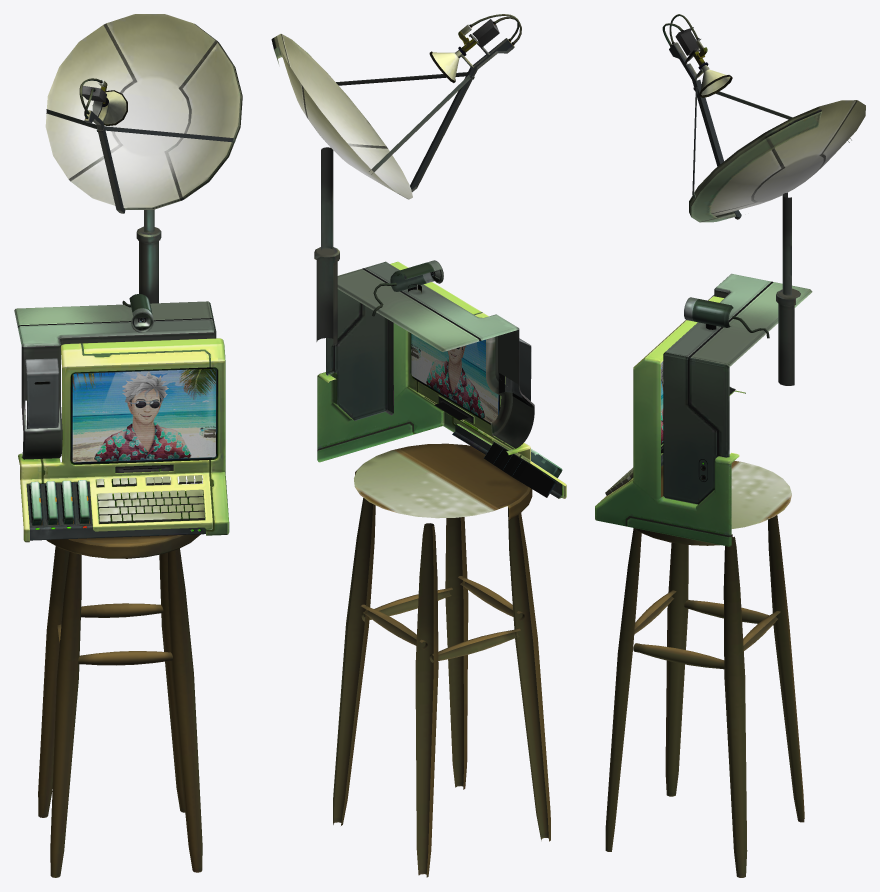
The model's file is AprilFools_Computer.fbx.
The picture shows the model from 3 angles, left to right: view 1: azimuth 30°, elevation 25°; view 2: azimuth 150°, elevation 25°; view 3: azimuth 270°, elevation 25°; orthographic projection. The views are drawn at different scales.
Visible parts, largest first — view 1: AprilFools_Computer; view 2: AprilFools_Computer; view 3: AprilFools_Computer.
Boxes of the visible parts, <box> form: AprilFools_Computer: <box>14,14,242,877</box>; AprilFools_Computer: <box>271,14,566,877</box>; AprilFools_Computer: <box>595,14,865,877</box>.
Bounding box in the file's own units: 27.74 × 86.87 × 26.78.
Materials: 1 (1 with a texture image).
